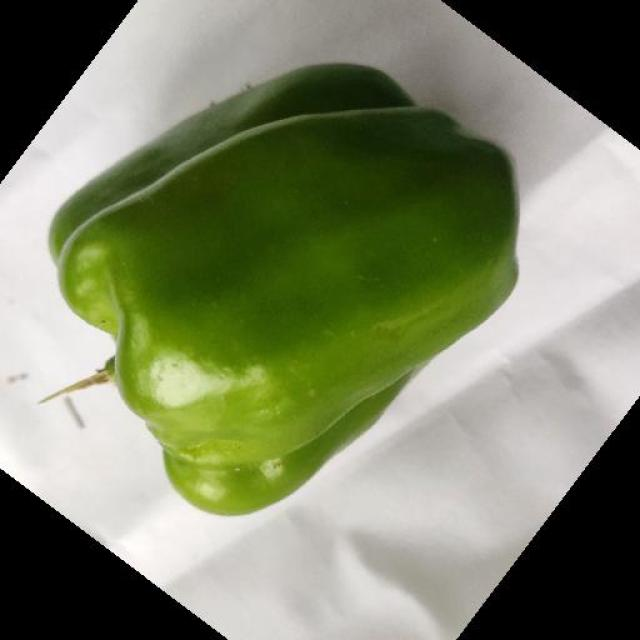Fresh_Capsicum: (84, 82, 516, 499)
